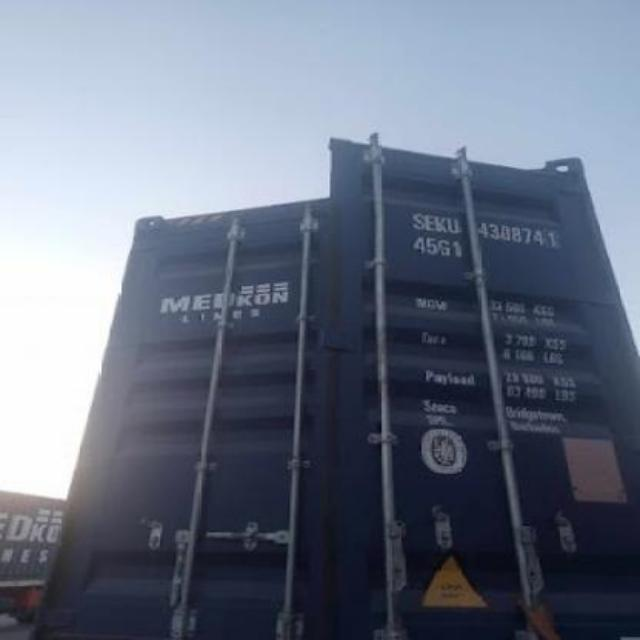0: (500, 219, 510, 243)
1: (546, 228, 558, 250)
3: (488, 219, 500, 243)
4: (474, 211, 488, 243), (532, 220, 544, 248)
7: (522, 219, 532, 249)
8: (510, 216, 522, 246)
E: (422, 206, 436, 234)
K: (436, 211, 446, 235)
S: (411, 203, 424, 235)
U: (446, 208, 459, 236)
